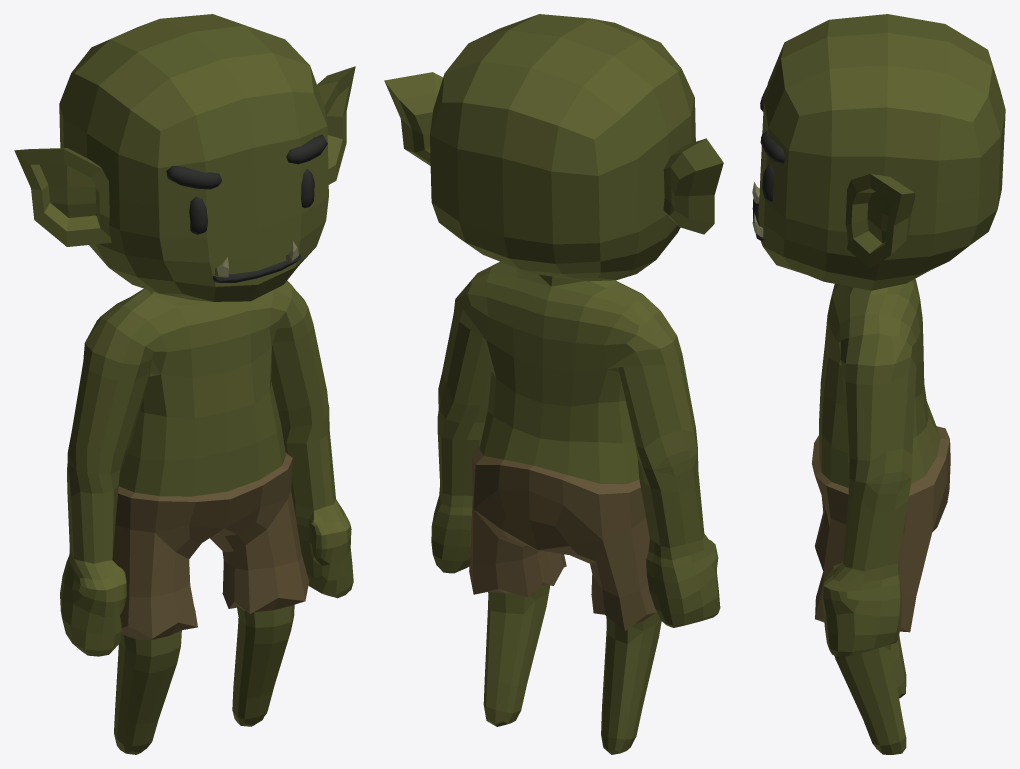
File: Goblin_Male.glb
3 renders of one model, left to right at view 1: azimuth 30°, elevation 25°; view 2: azimuth 150°, elevation 25°; view 3: azimuth 270°, elevation 25°, orthographic. The views are drawn at different scales.
Parts seen in each view (by area): view 1: Body; view 2: Body; view 3: Body.
Part boxes in pixels (left/top/right/bottom): Body: left=14, top=14, right=355, bottom=754; Body: left=384, top=14, right=723, bottom=754; Body: left=752, top=14, right=1005, bottom=754.
Size of the model in its own units: 0.7867 by 1.55 by 0.5147.
